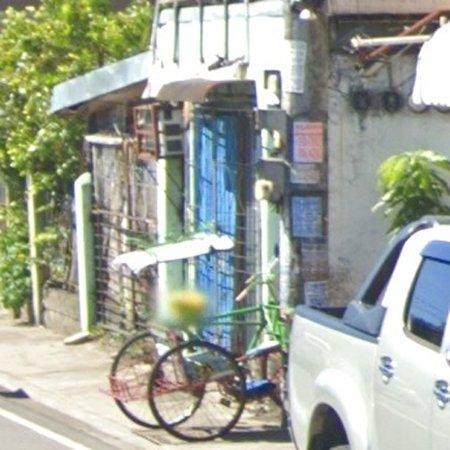bicycles: (148, 339, 285, 441)
